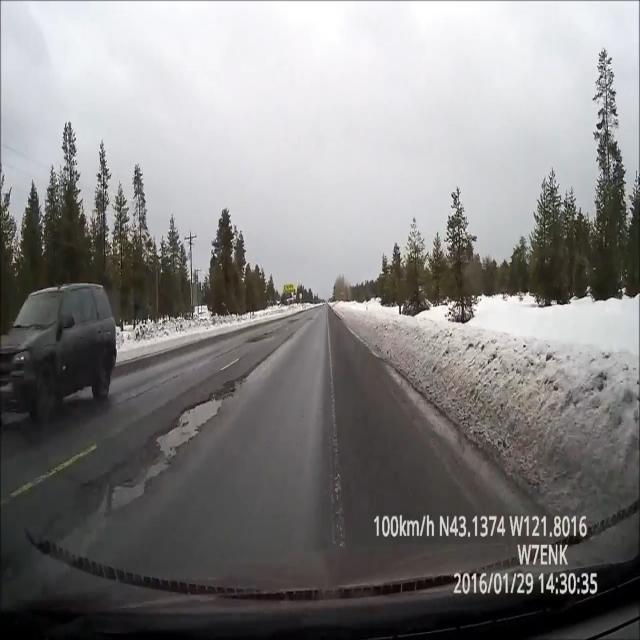pothole: (149, 378, 244, 458), (87, 457, 171, 520)
